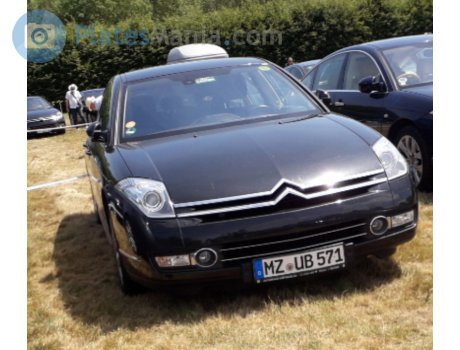License Plates: (257, 253, 351, 267)
